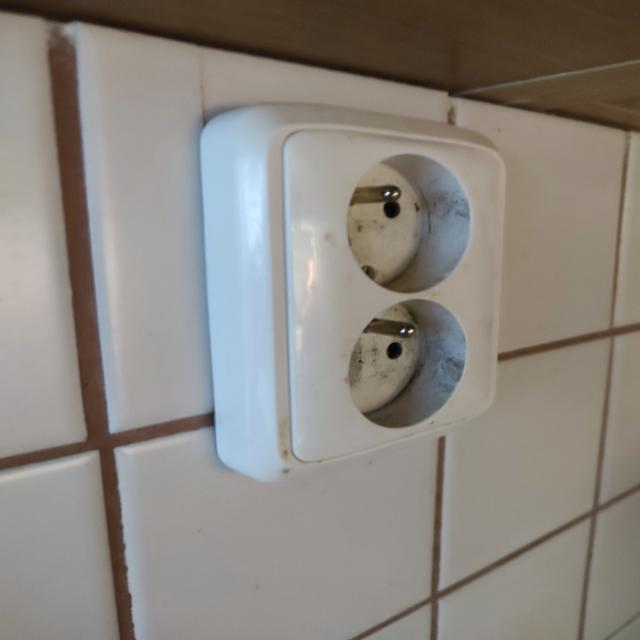house switch: (330, 143, 474, 296), (337, 295, 475, 442)
